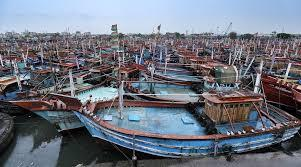fishing boat: (50, 79, 301, 158)
